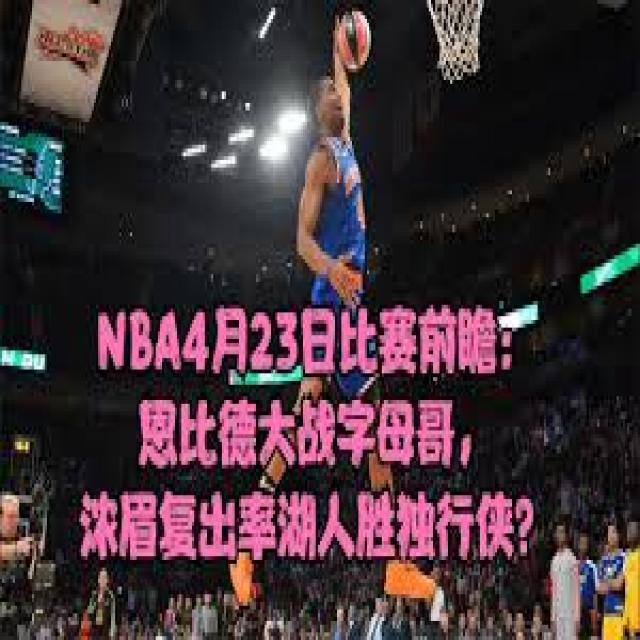rim: (342, 12, 372, 68)
